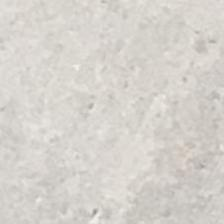Non_Crack: (21, 30, 215, 206)
